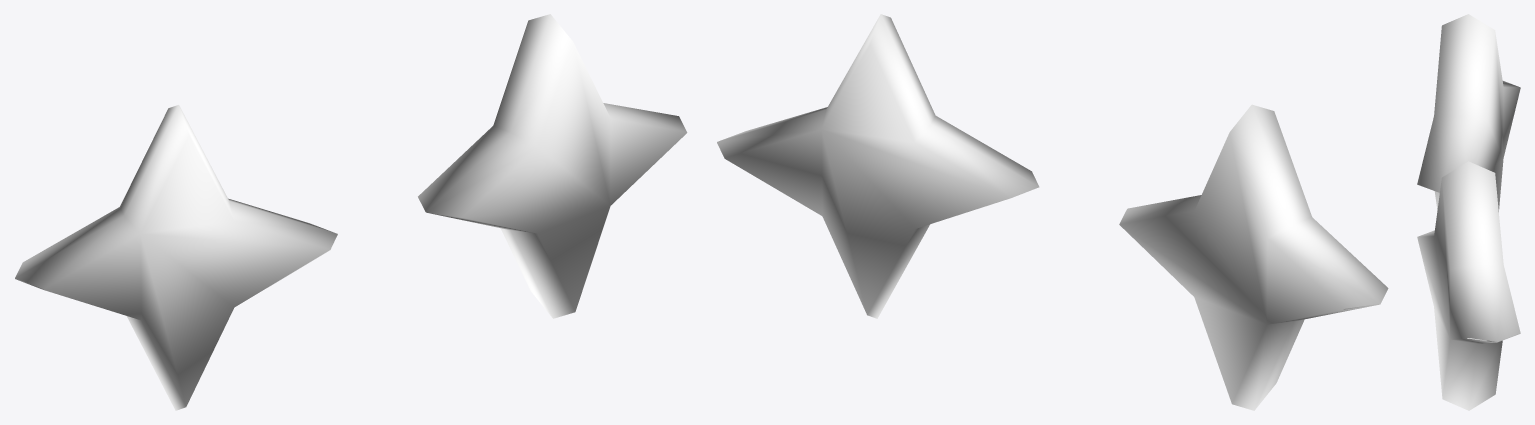
Rendered from eyes_04.fbx.
The picture shows the model from 3 angles, left to right: view 1: azimuth 30°, elevation 25°; view 2: azimuth 150°, elevation 25°; view 3: azimuth 270°, elevation 25°; orthographic projection. The views are drawn at different scales.
Parts seen in each view (by area): view 1: Eyes_04; view 2: Eyes_04; view 3: Eyes_04.
Boxes of the visible parts, bbox=[...] form: Eyes_04: bbox=[15, 14, 687, 410]; Eyes_04: bbox=[717, 14, 1388, 410]; Eyes_04: bbox=[1417, 14, 1520, 410].
Bounding box in the file's own units: 86.35 × 37.91 × 14.34.
